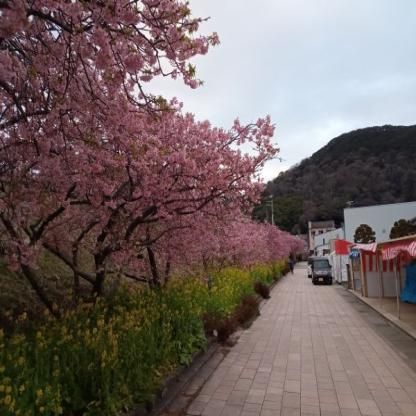KawazuSakura: (0, 0, 279, 289), (165, 202, 314, 278), (308, 255, 332, 284)
